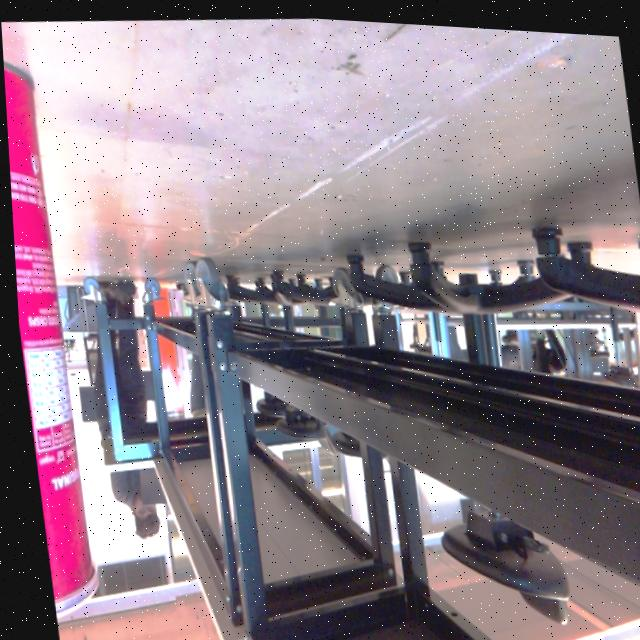redpringles: (2, 36, 109, 631)
